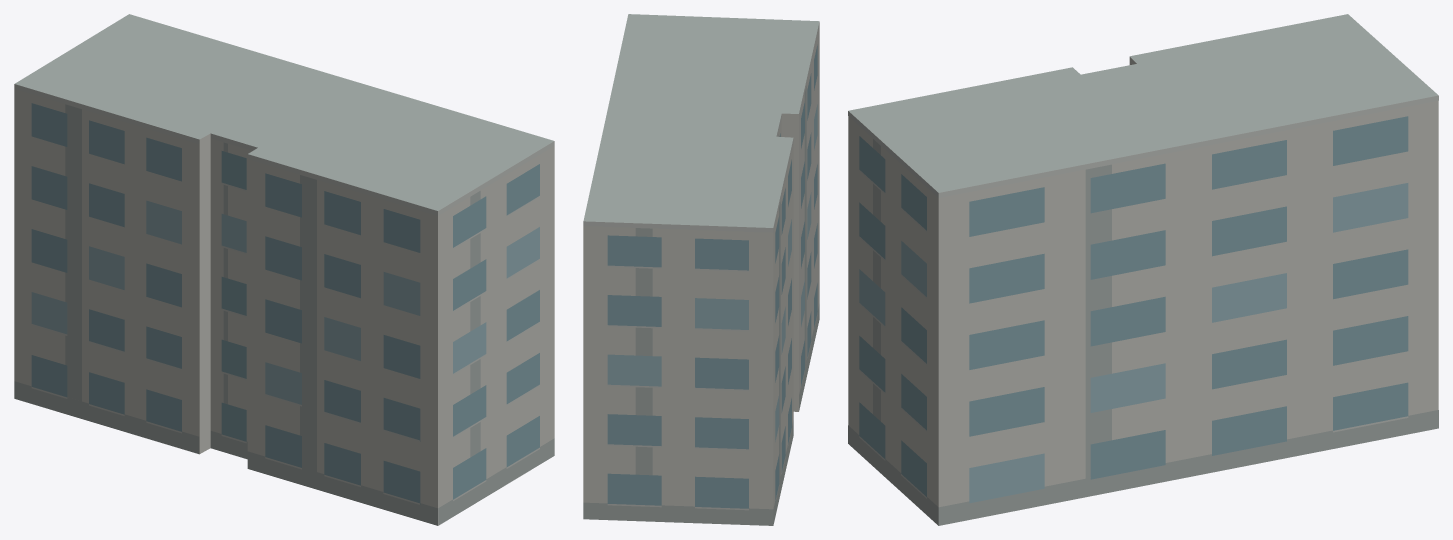
Rendered from survey-upis-33026409.glb.
3 renders of one model, left to right at view 1: azimuth 30°, elevation 25°; view 2: azimuth 150°, elevation 25°; view 3: azimuth 270°, elevation 25°, orthographic. The views are drawn at different scales.
Parts seen in each view (by area): view 1: survey-upis-33026409.tmp; view 2: survey-upis-33026409.tmp; view 3: survey-upis-33026409.tmp.
Part boxes in pixels (x1=…): survey-upis-33026409.tmp: x1=14, y1=14, x2=554, y2=525; survey-upis-33026409.tmp: x1=583, y1=14, x2=819, y2=525; survey-upis-33026409.tmp: x1=848, y1=14, x2=1438, y2=525.
Bounding box in the file's own units: 17.59 × 15.25 × 24.53.
